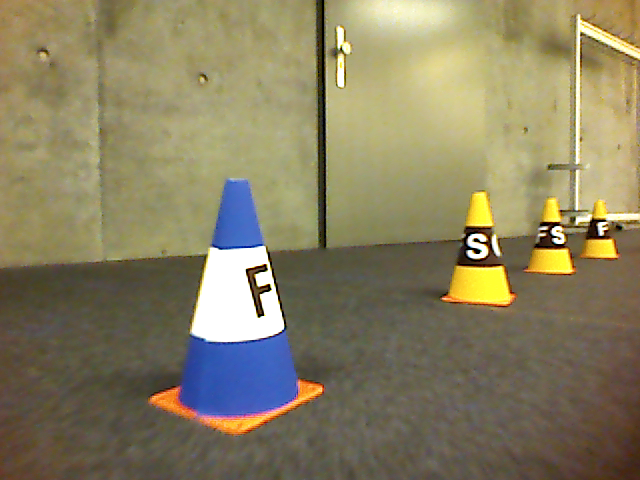bluecone: (147, 177, 325, 439)
yellowcone: (443, 189, 517, 309), (523, 196, 578, 276), (580, 200, 620, 261)
